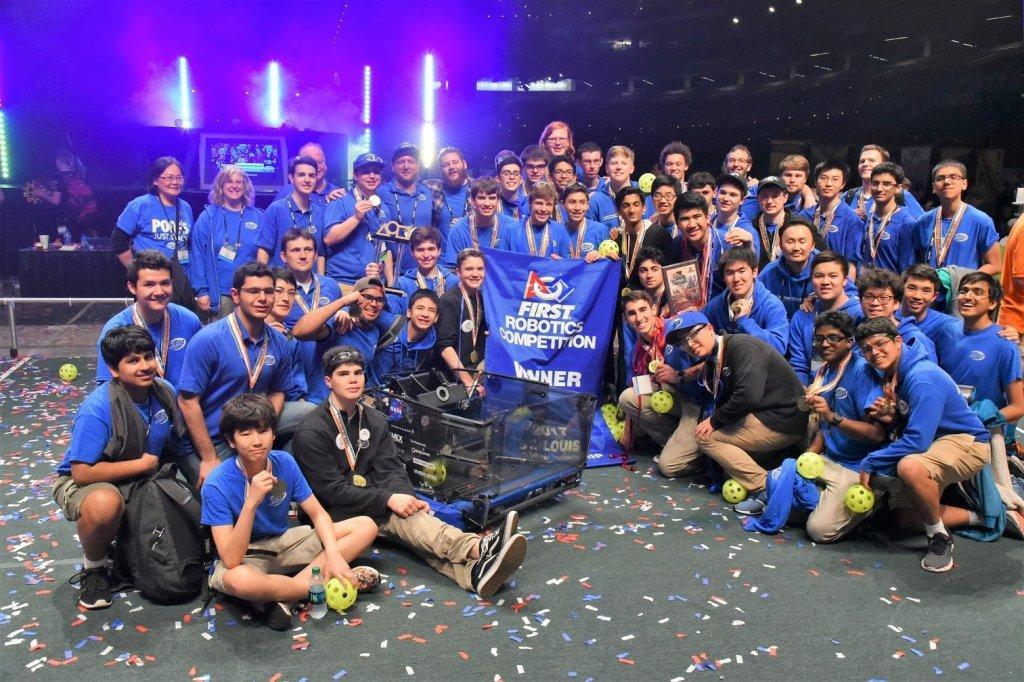robot: (355, 356, 597, 539)
